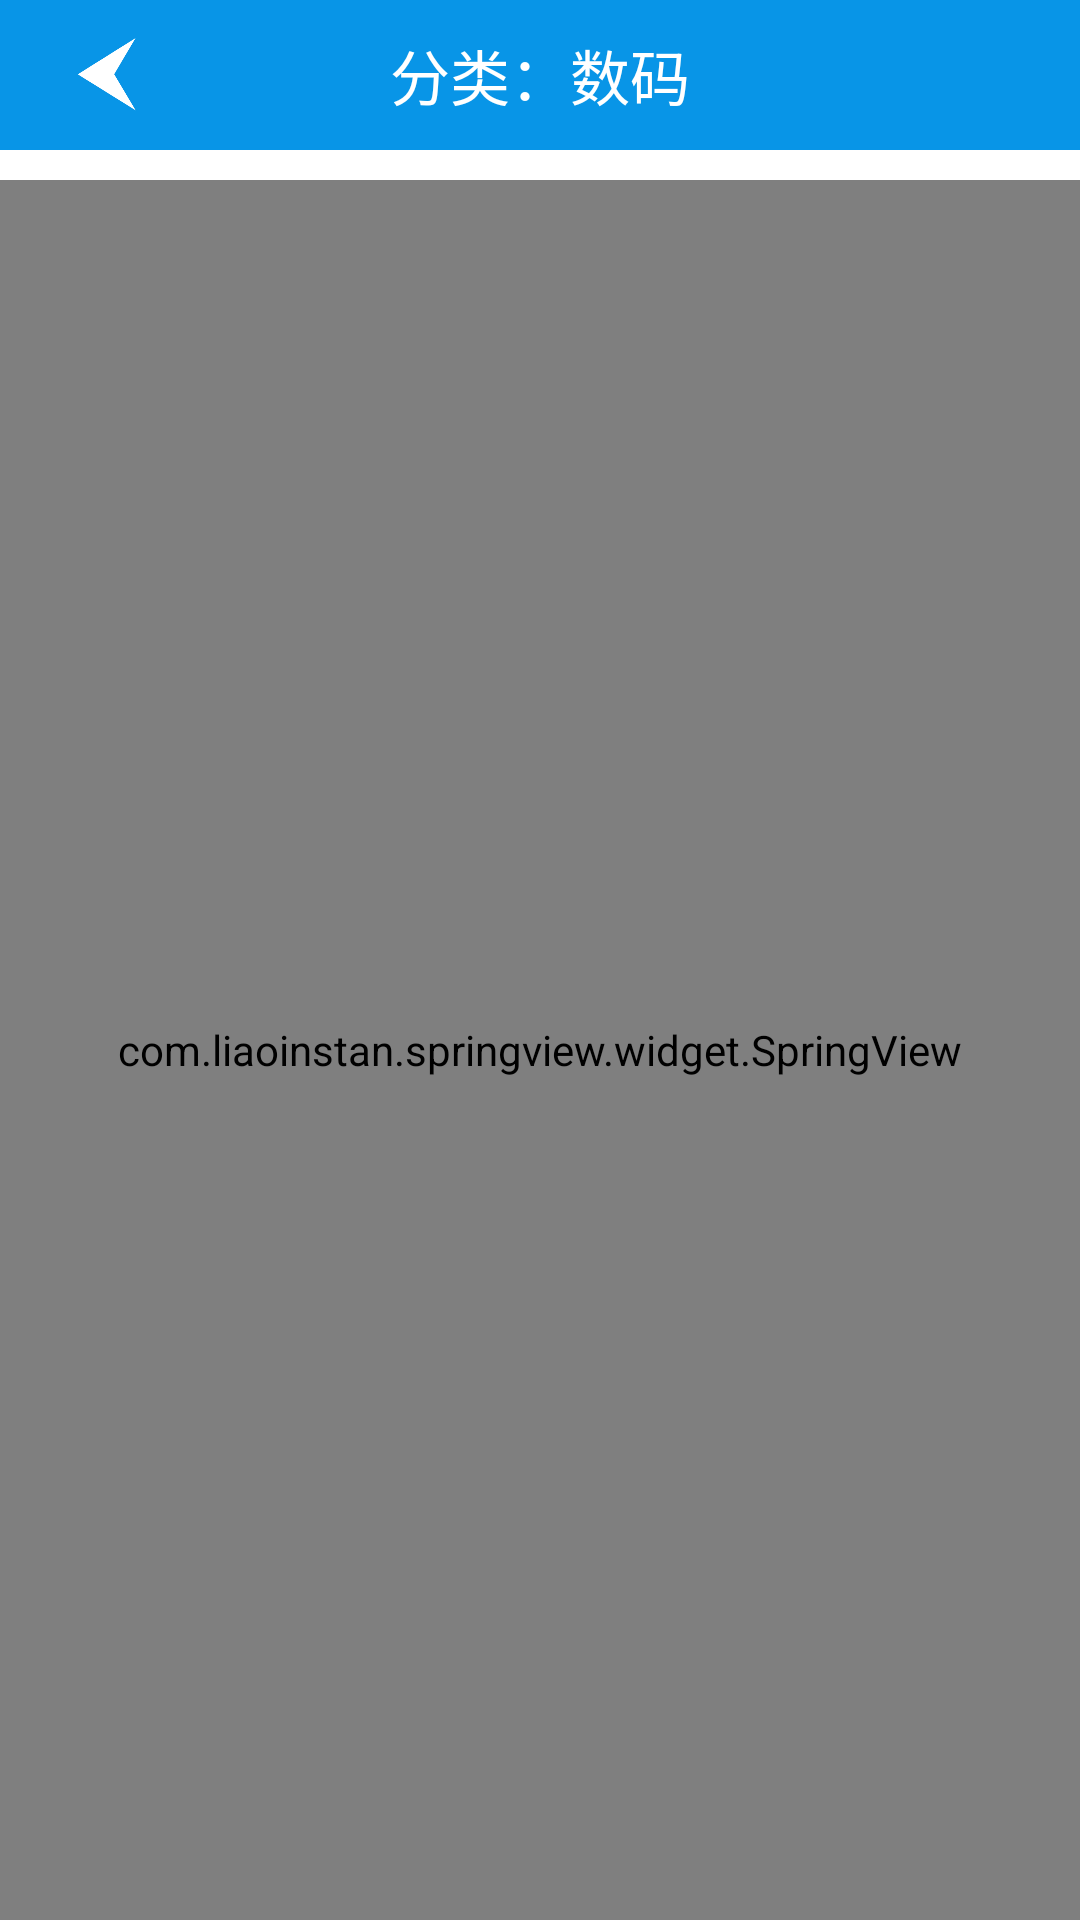

Screen size 1080 × 1920. Icon name, then its center in pixels as (x=x, y=y):
fanhui: (x=107, y=74)
